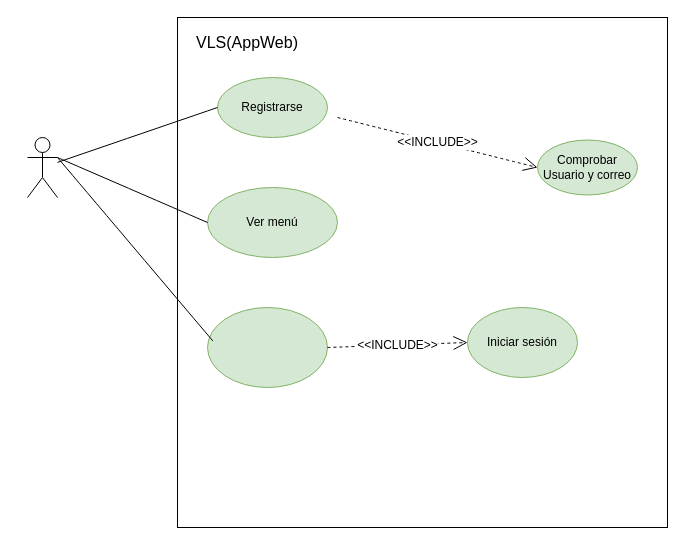
Image size: 685x545. Some labels were removed from this diagram. Here are the shapes that lost their labels. From the top down, the centre of each, then its label:
At (x=42, y=167): "CLIENTE".
At (x=267, y=347): "Hacer una reserva".
